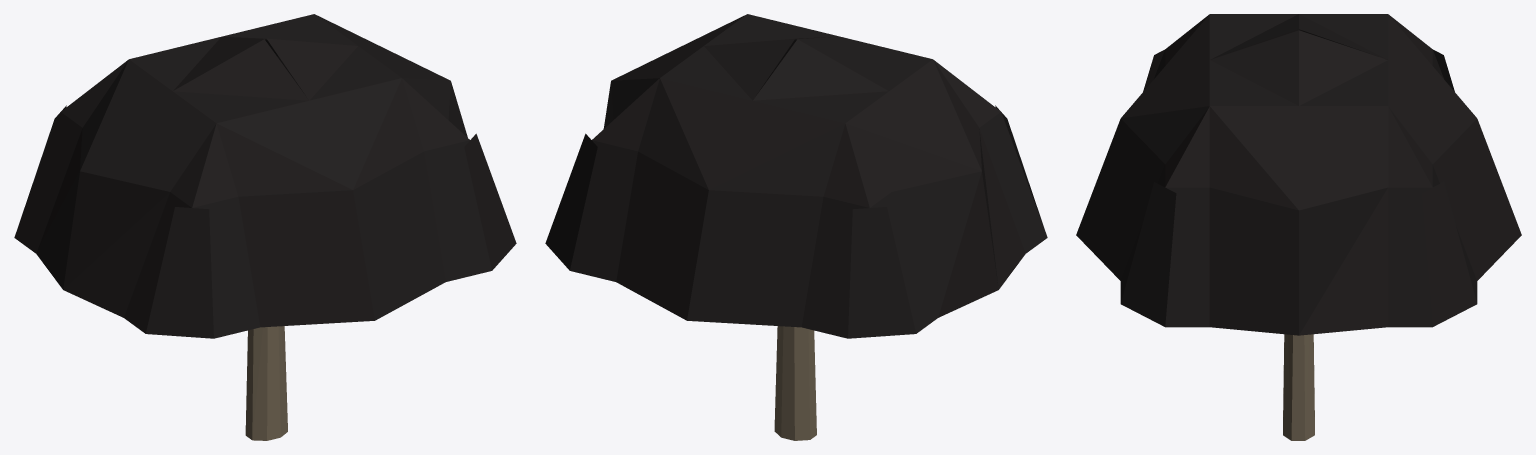
File: obj_yommi_tree_sapling_0.obj
The picture shows the model from 3 angles, left to right: view 1: azimuth 30°, elevation 25°; view 2: azimuth 150°, elevation 25°; view 3: azimuth 270°, elevation 25°; orthographic projection.
Bounding box in the file's own units: 3 × 2.8 × 2.81.
